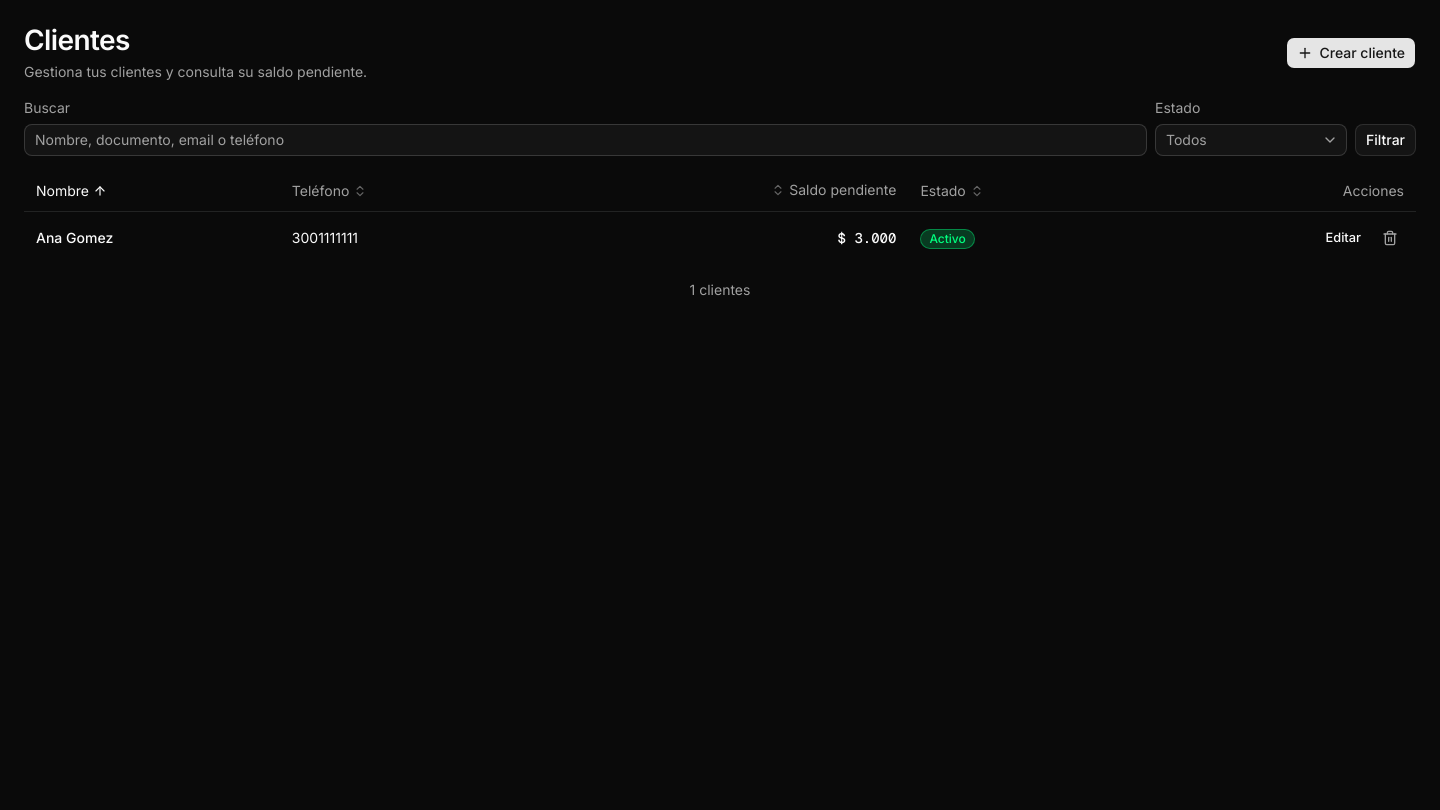
CustomersPage › opens the edit dialog pre-filled with the row's customer when 'Editar' is clicked (no navigation)
What coordinates should you click on to do the following:
click the button "Editar"
I would click on:
 (1343, 238)
Its box is [1314,224,1372,252].
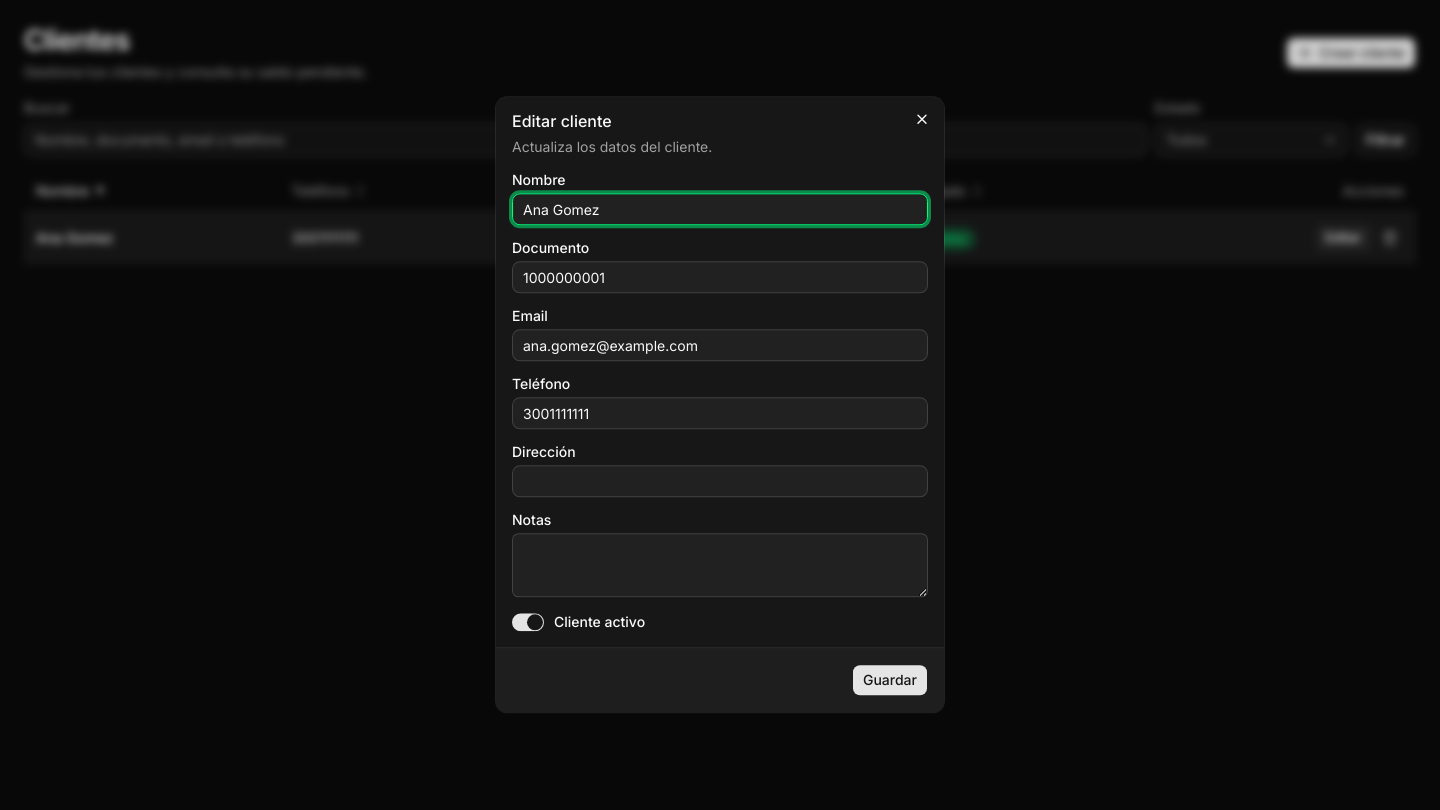
Expected: the dialog is shown, [496,97,944,713]
Expected: the heading "Editar cliente" is shown, [512,111,612,131]
Expected: the field showing "Ana Gomez" is shown, [512,193,928,225]
